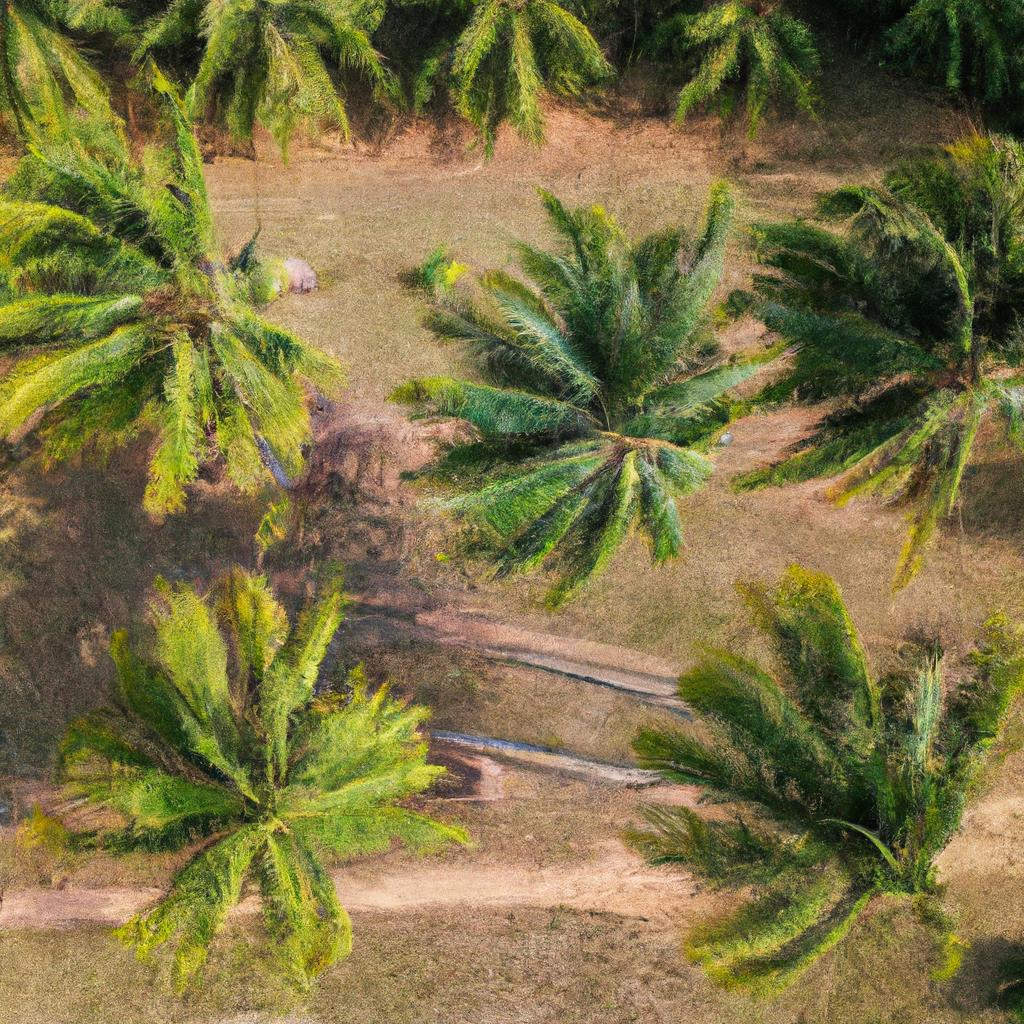coconut_tree: (36, 550, 473, 999), (620, 551, 1023, 1005), (422, 166, 792, 569), (0, 91, 355, 501), (762, 108, 1023, 581)
